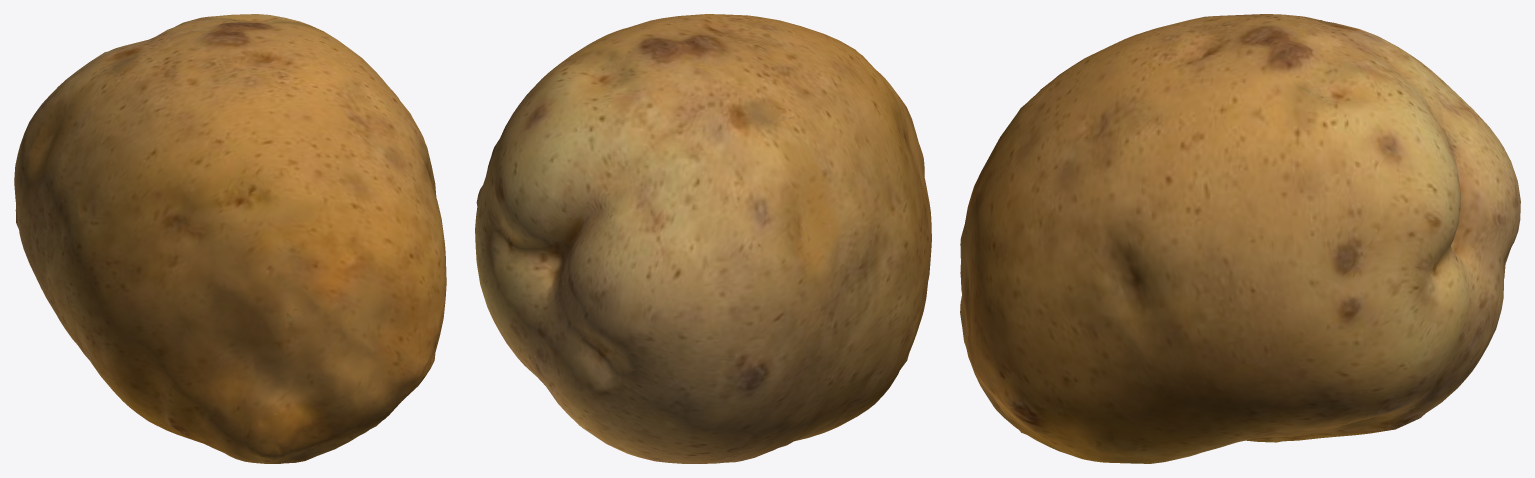
File: potato.glb
3 renders of one model, left to right at view 1: azimuth 30°, elevation 25°; view 2: azimuth 150°, elevation 25°; view 3: azimuth 270°, elevation 25°, orthographic. The views are drawn at different scales.
Visible parts, largest first — view 1: potato; view 2: potato; view 3: potato.
Boxes of the visible parts, x1,y1,x2,y2 form: potato: (14,14,446,463); potato: (475,14,931,463); potato: (960,14,1520,463).
Bounding box in the file's own units: 0.0734 × 0.0711 × 0.0888.
Materials: 1 (1 with a texture image).
